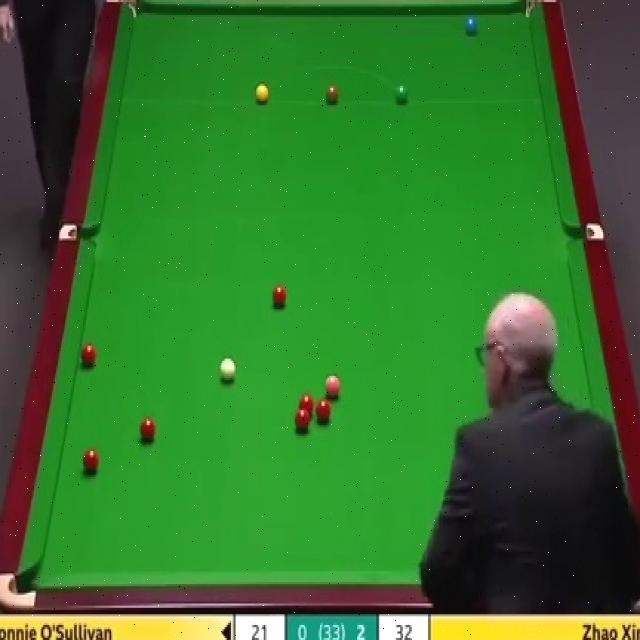blue-ball: (463, 11, 480, 37)
brown-ball: (325, 85, 340, 106)
green-ball: (394, 84, 409, 107)
pink-ball: (321, 374, 341, 401)
red-ball: (82, 447, 100, 477), (139, 418, 156, 446), (314, 398, 332, 423), (79, 342, 96, 368), (271, 284, 288, 310), (294, 409, 311, 434), (297, 394, 315, 416)
white-ball: (218, 357, 238, 387)
yellow-ball: (255, 83, 270, 106)
